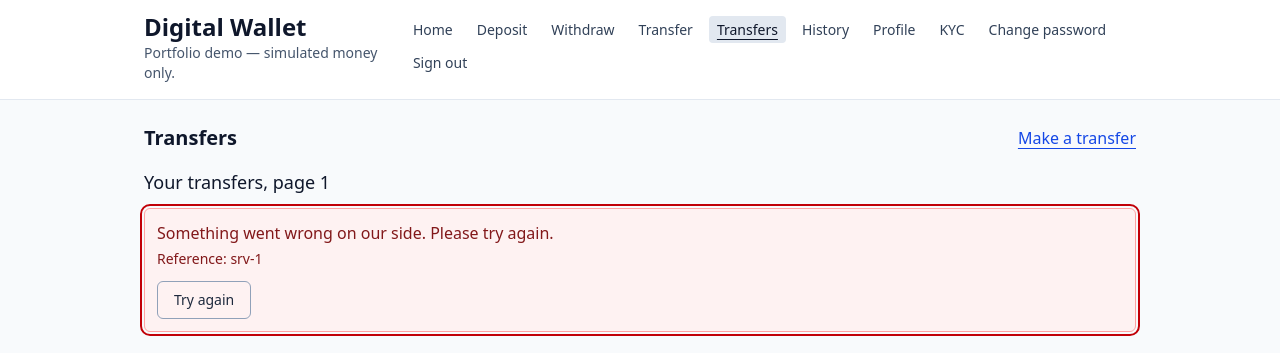
it: Transfers list › shows a load error with its reference and loads again on Try again
Expected: the message shows "Reference: srv-1", left=144, top=208, right=1136, bottom=332
Click the button "Try again". click: (204, 300)
box: left=157, top=281, right=251, bottom=319
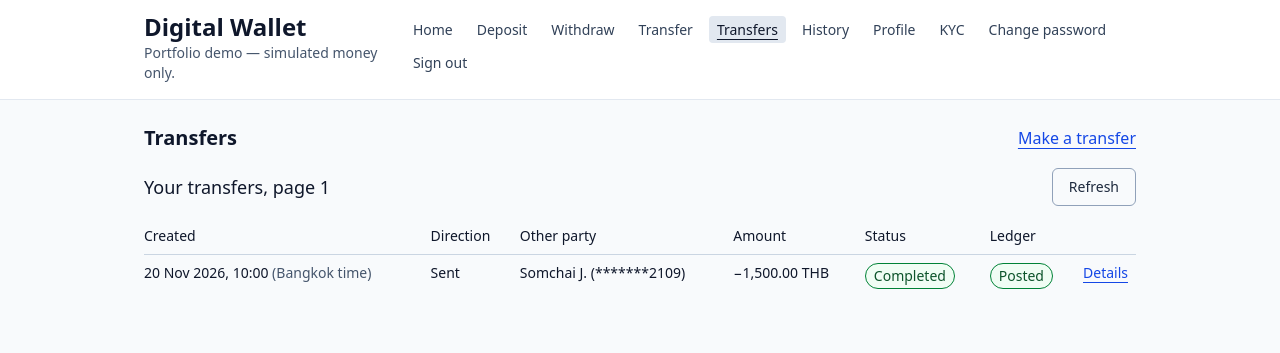
Expected: the text "Completed" is shown, left=865, top=263, right=955, bottom=289
